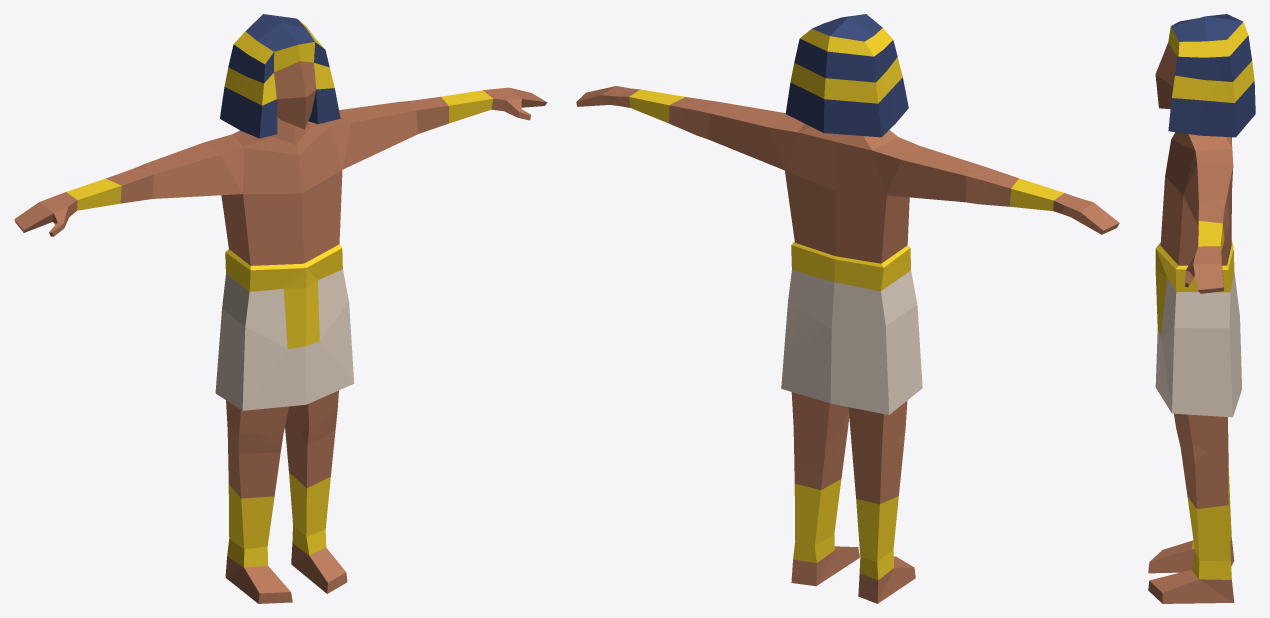
The model's file is people_man-egypt-soldier_rig.fbx.
3 views of the same model, side by side, from view 1: azimuth 30°, elevation 25°; view 2: azimuth 150°, elevation 25°; view 3: azimuth 270°, elevation 25° (orthographic).
Visible parts, largest first — view 1: man_egypt_soldier_Rig; view 2: man_egypt_soldier_Rig; view 3: man_egypt_soldier_Rig.
Part boxes in pixels (x1=…): man_egypt_soldier_Rig: x1=14, y1=14, x2=547, y2=603; man_egypt_soldier_Rig: x1=576, y1=14, x2=1119, y2=603; man_egypt_soldier_Rig: x1=1148, y1=14, x2=1255, y2=603.
Size of the model in its own units: 197 by 200 by 34.46.
